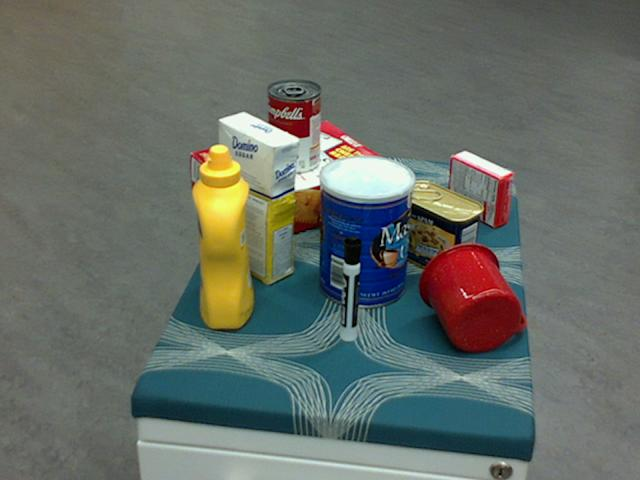cracker_box: (190, 119, 391, 248)
gelatin_box: (448, 150, 514, 227)
large_marker: (340, 235, 360, 342)
master_chef_can: (319, 154, 414, 308)
mug: (418, 241, 524, 351)
mustard_bottle: (192, 145, 253, 329)
potted_meat_can: (397, 181, 483, 277)
sugar_box: (218, 112, 297, 286)
tomato_soup_can: (267, 80, 321, 174)
tuna_fish_can: (321, 161, 392, 231)
